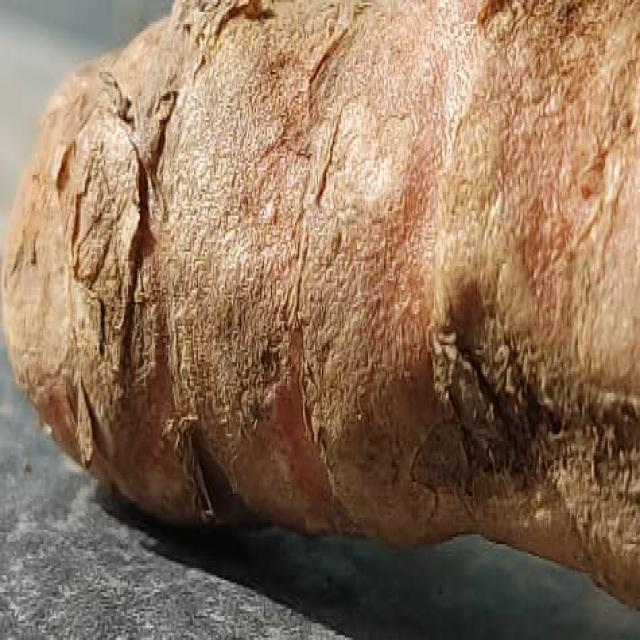ginger: (17, 5, 640, 589)
